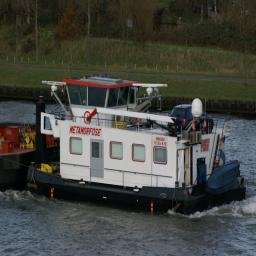tugboat: (25, 74, 248, 225)
